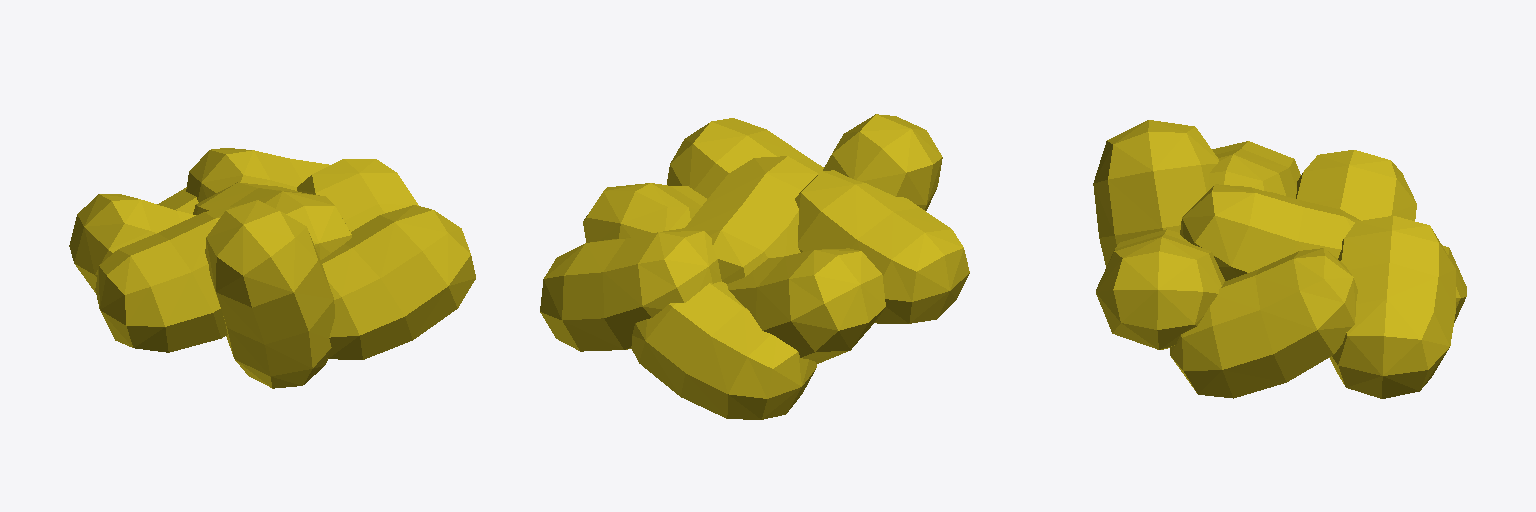
Rendered from гстер_картоки(p).obj.
The picture shows the model from 3 angles: view 1: azimuth 30°, elevation 25°; view 2: azimuth 150°, elevation 25°; view 3: azimuth 270°, elevation 25°; orthographic projection.
Parts seen in each view (by area): view 1: Cube.009_Cube.010; view 2: Cube.009_Cube.010; view 3: Cube.009_Cube.010.
Part boxes in pixels (x1,y1,x2,y2): Cube.009_Cube.010: (69, 148, 475, 388); Cube.009_Cube.010: (540, 114, 969, 419); Cube.009_Cube.010: (1093, 120, 1466, 398).
Bounding box in the file's own units: 1.25 × 0.7348 × 1.2.